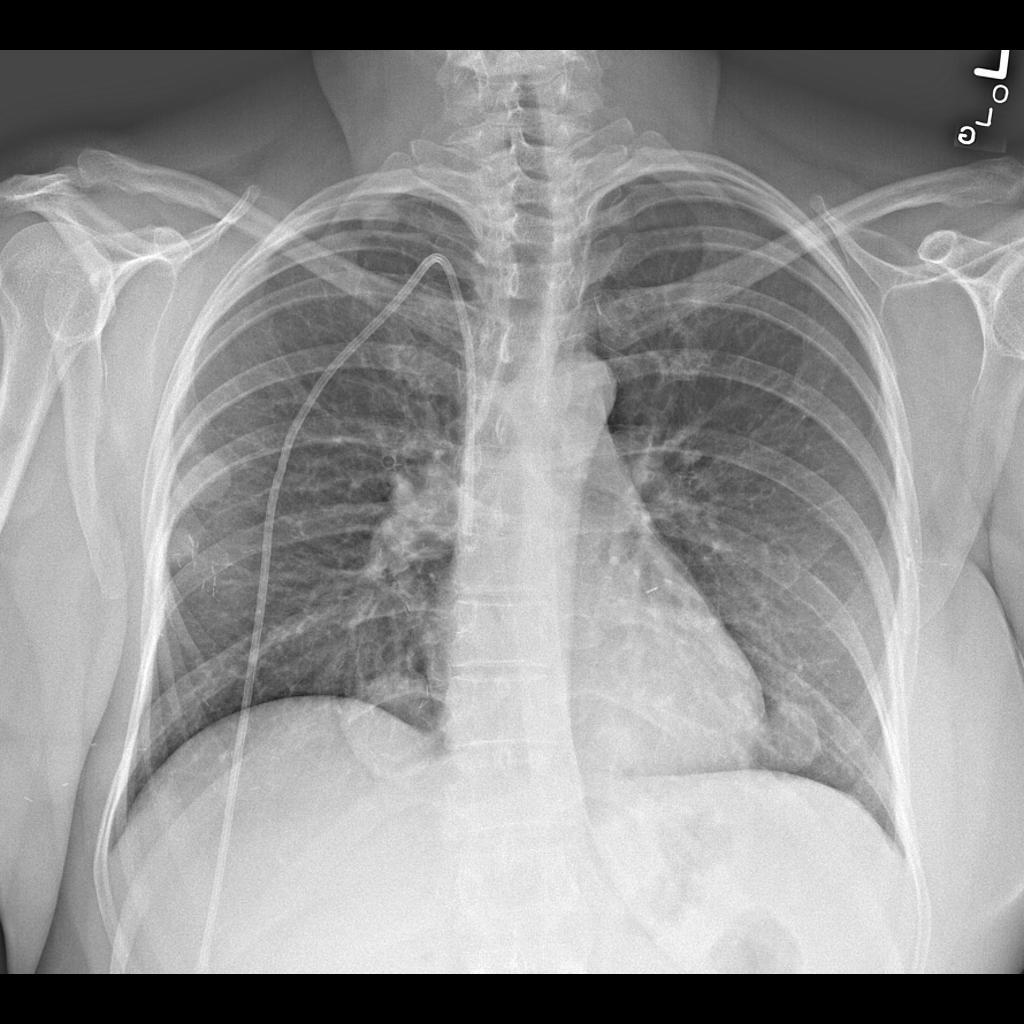Nodule: (750, 695, 825, 770), (176, 444, 235, 512), (159, 527, 197, 568)
